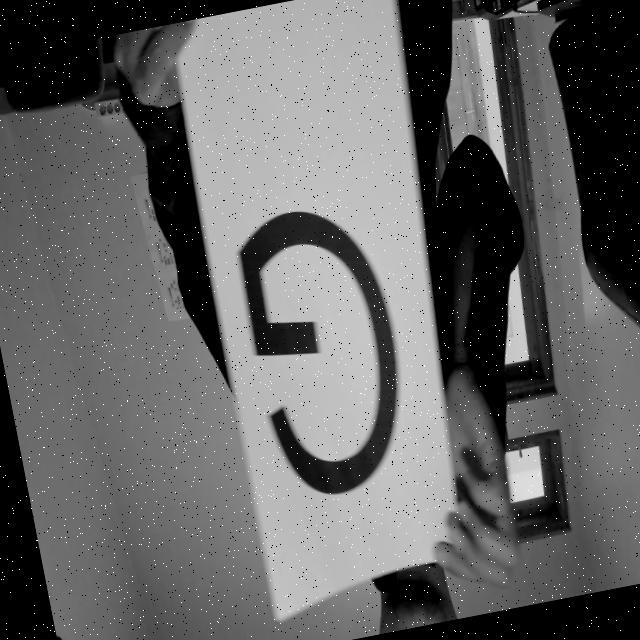g: (212, 170, 426, 522)
